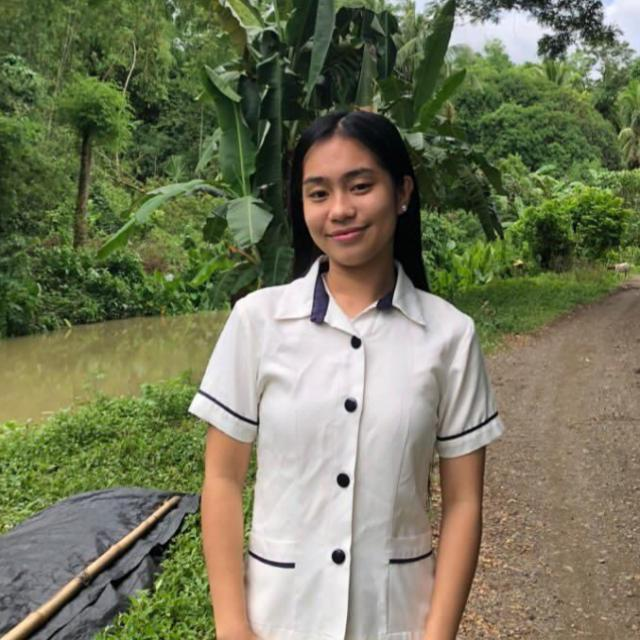education_female_uniform: (173, 249, 581, 640)
